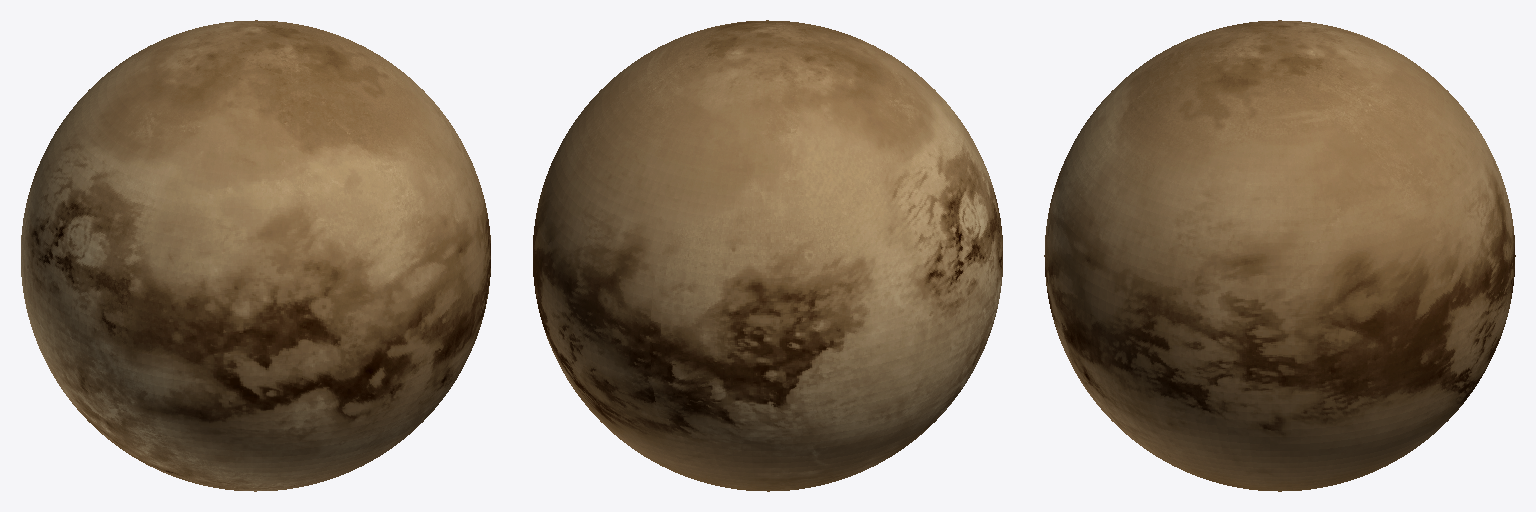
The picture shows the model from 3 angles: view 1: azimuth 30°, elevation 25°; view 2: azimuth 150°, elevation 25°; view 3: azimuth 270°, elevation 25°; orthographic projection.
Visible parts, largest first — view 1: earth_Sphere; view 2: earth_Sphere; view 3: earth_Sphere.
Part boxes in pixels (x1,y1,x2,y2): earth_Sphere: (21,20,490,491); earth_Sphere: (533,20,1002,491); earth_Sphere: (1044,20,1515,491).
Bounding box in the file's own units: 2 × 2 × 2.
1 materials, 1 textured.